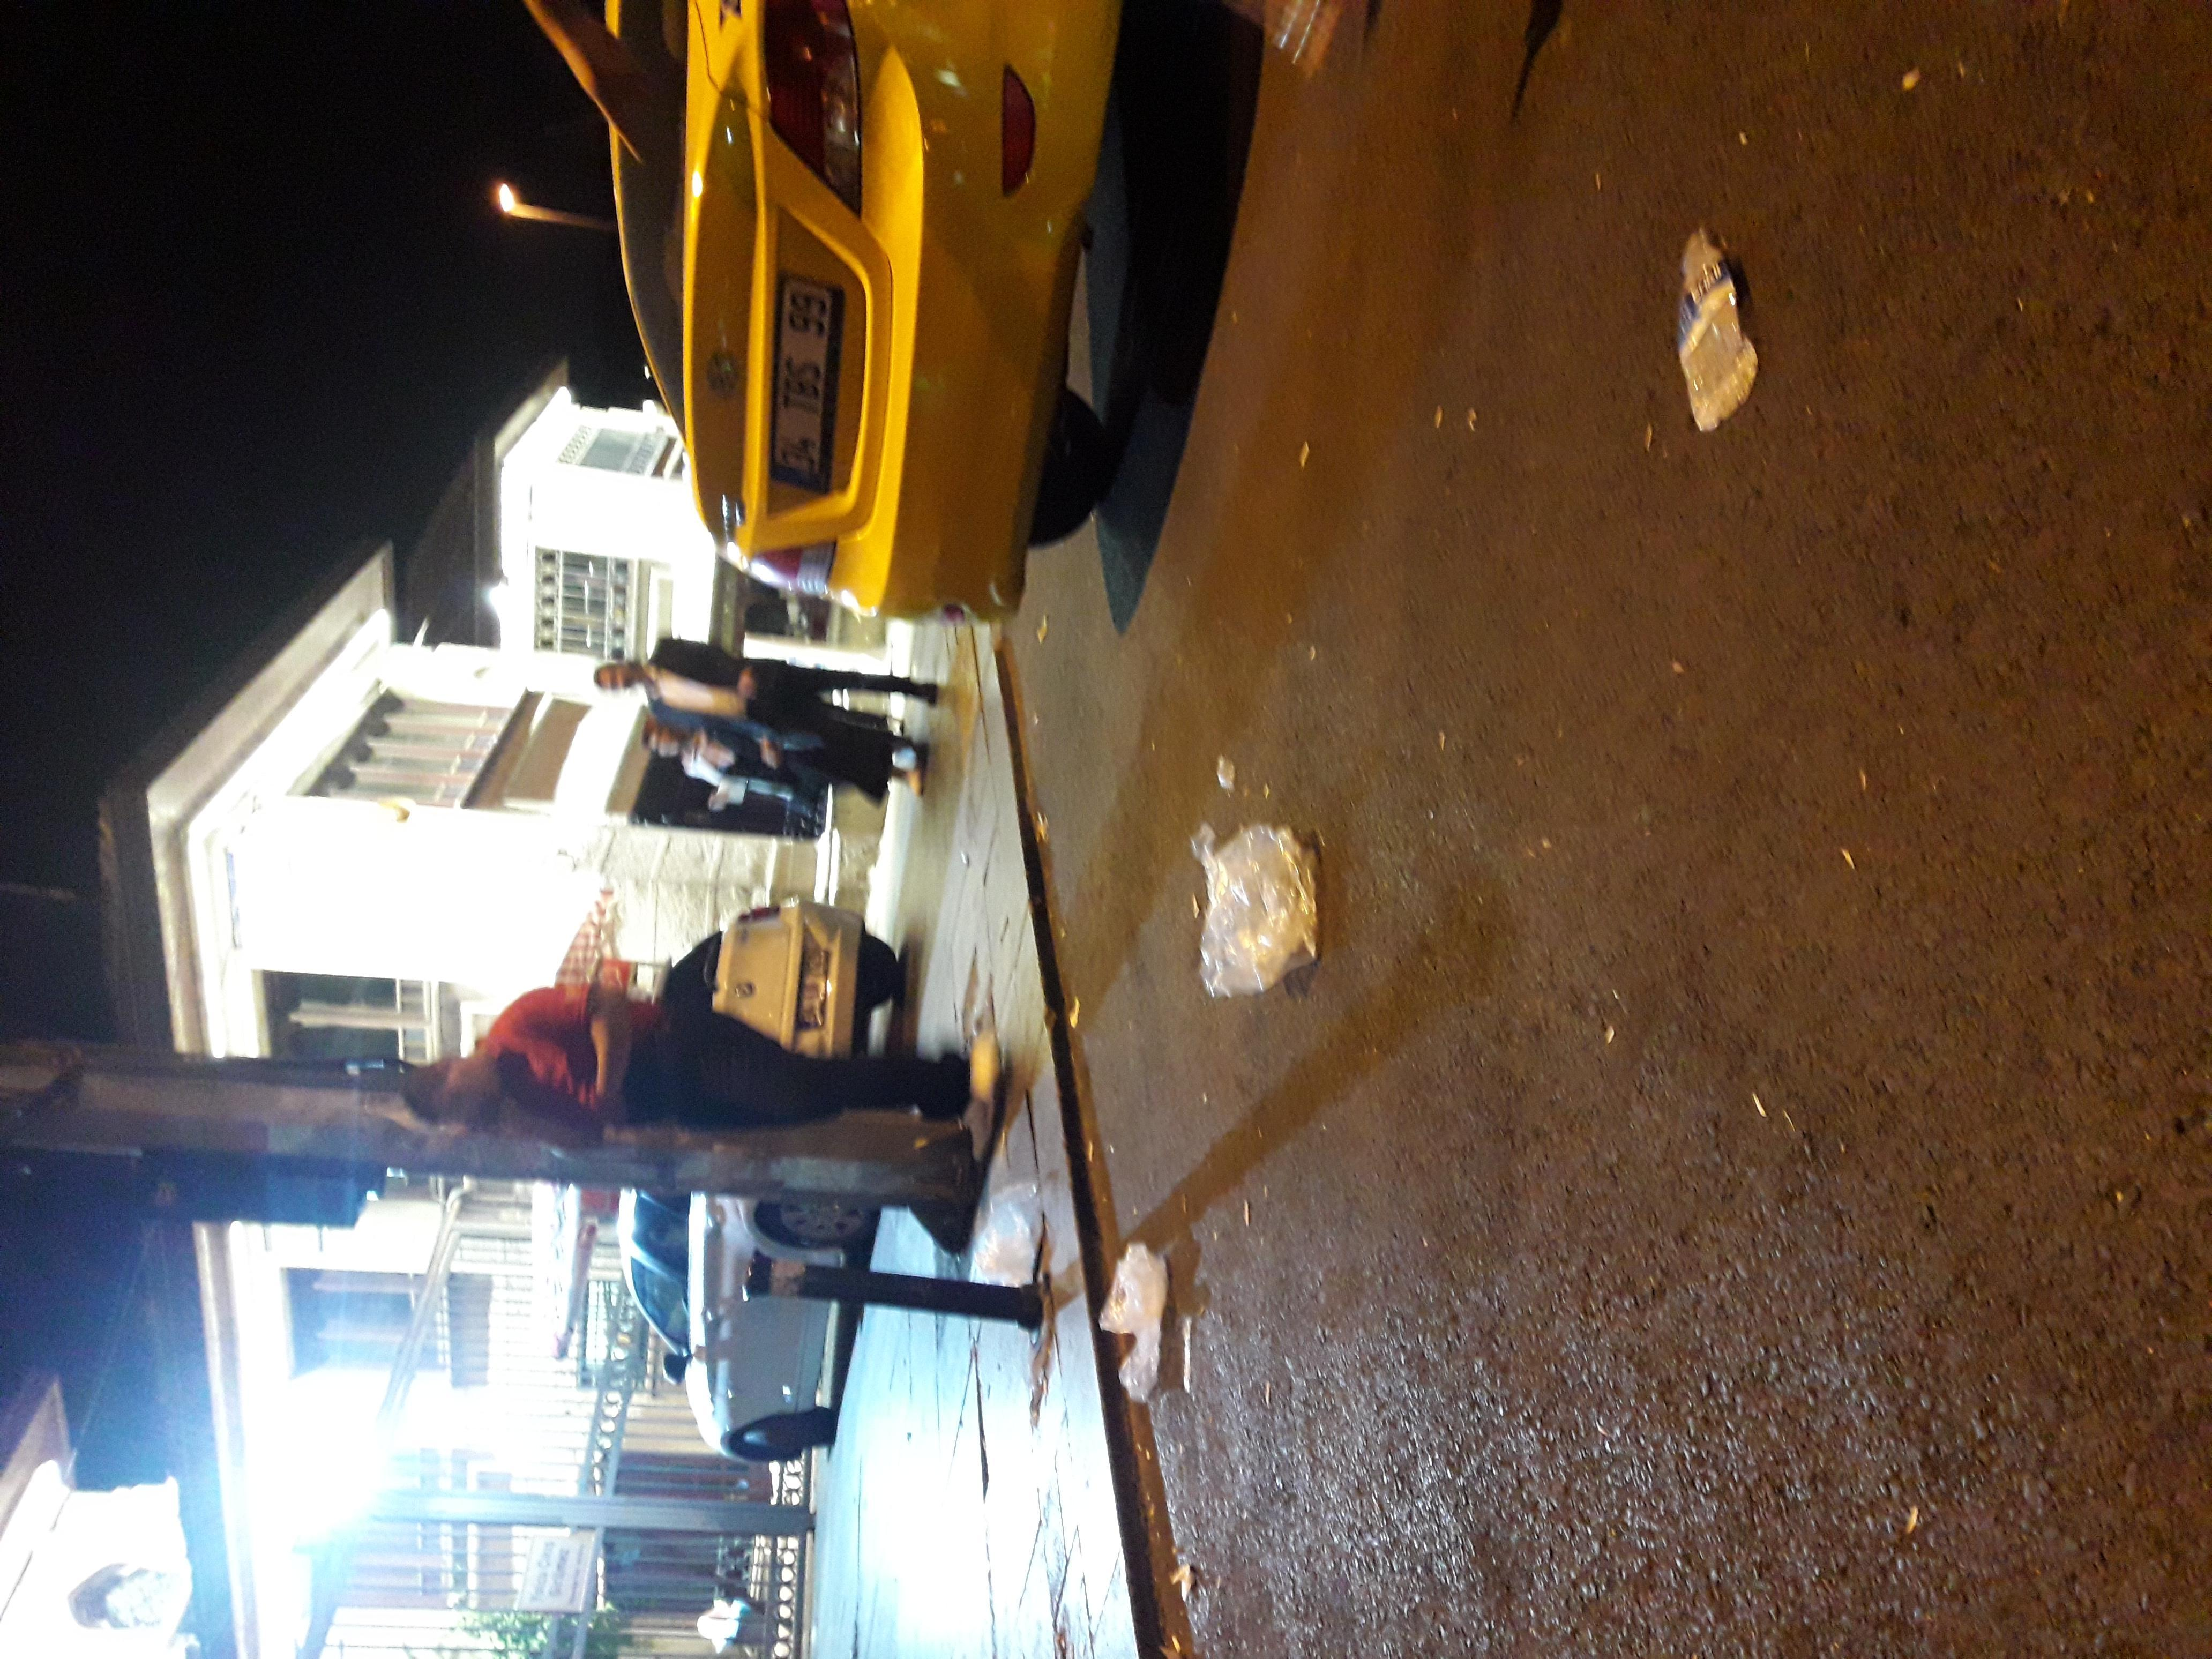bottle: (0, 5, 1907, 159)
